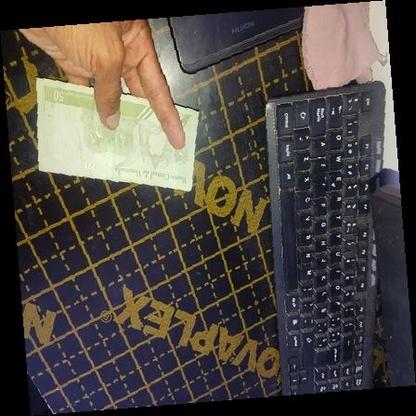fifty-back-vef: (36, 78, 199, 190)
